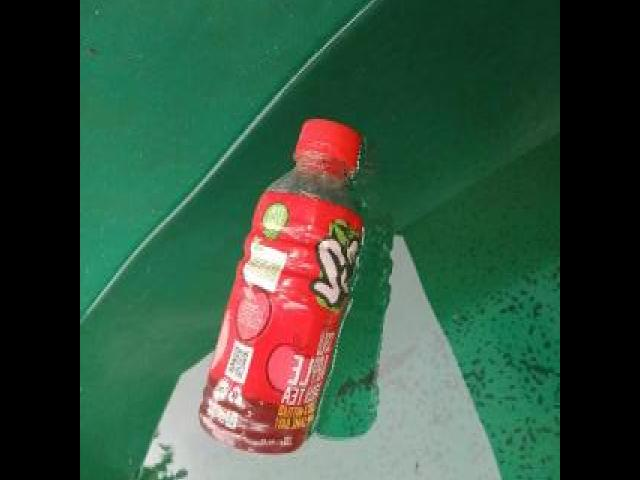Bottle: (193, 110, 371, 462)
